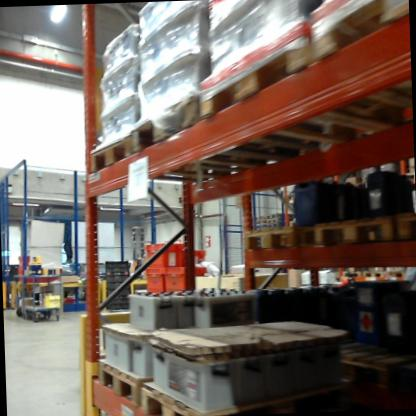pallet: (199, 37, 401, 165), (129, 85, 312, 184), (80, 117, 240, 196), (307, 0, 412, 120), (140, 371, 364, 416), (95, 353, 151, 416), (307, 216, 398, 249), (241, 220, 305, 254), (395, 205, 415, 253)
small_load_carrier: (144, 237, 188, 268), (164, 265, 199, 293), (143, 263, 163, 294), (182, 244, 207, 265)
